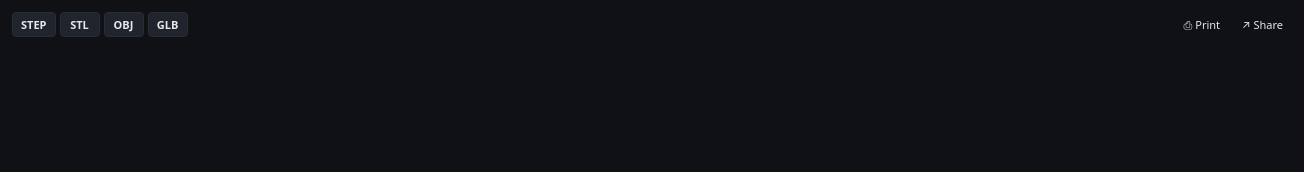
Scenario: ExportShare › downloads a format via fetch + blob and toasts success
The image size is (1304, 172).
Click the button "STL": (80, 24) [60,12,100,37]
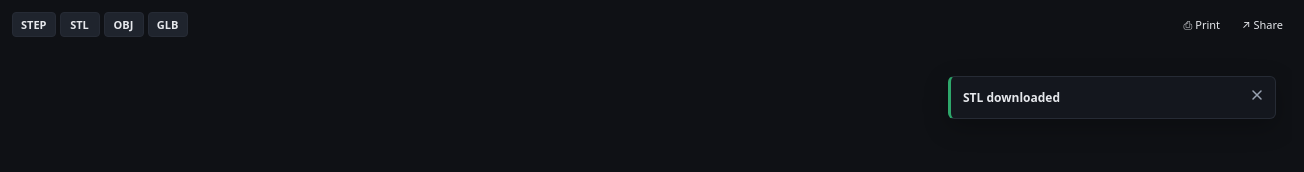
Expected: the text "STL downloaded" is shown, [963,89,1060,106]
